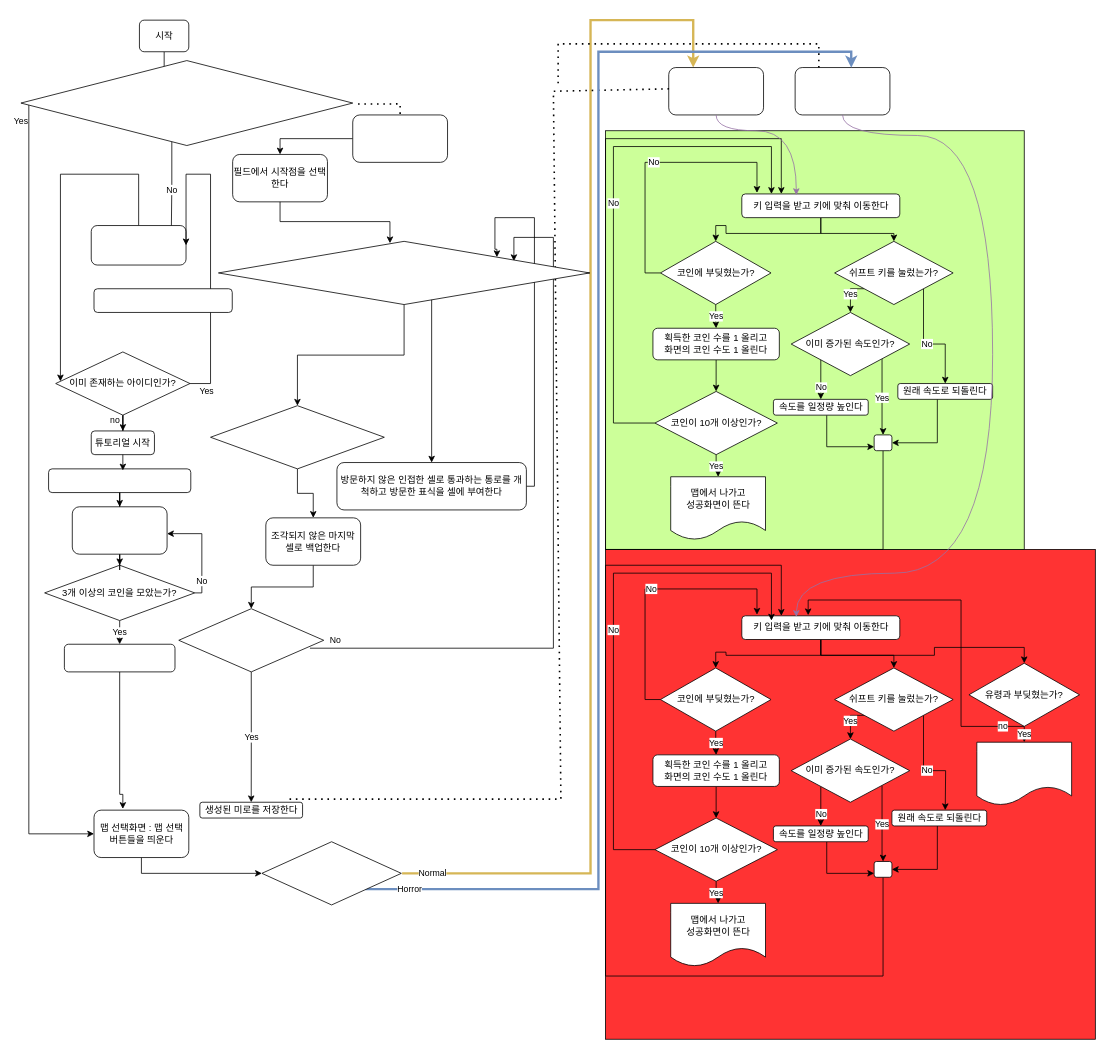
The diagram is 1109 pixels wide and 1053 high, and some of its shapes have lost their labels. Here are the shapes that lost their labels. From the top down, the centre of each, then its label:
the point at 186,103: 계정이 있고 자신의 아이디와 비밀번호를 입력할 수 있는가?
the point at 716,91: 미니맵을 표시한다
the point at 842,91: 자신의 일정한 주위만 보이는 미니맵을 표시한다
the point at 400,138: 4면이 벽으로 형성된 셀을 만든다
the point at 138,245: 새 계정 만들기 자신의 아이디와 비번을 만들기
the point at 404,273: 해당 지점에서 임의로 셀을 선택했는데 아직 방문하지 않았는가?
the point at 162,300: '당신의 아이디는 이미 존재하는 아이디입니다'를 출력하기
the point at 297,437: 인접한 모든 셀을 방문했는가?
the point at 119,480: 튜토리얼 안내 메시지를 작성한 순서대로 표시한다
the point at 119,530: 일반 게임처럼 게임을 진행한다
the point at 119,657: 튜토리얼 클리어 뜨고 맵 선택으로 씬이 전환된다
the point at 251,640: 백업한 셀이 시작한 셀인가?
the point at 1024,773: 맵에서 나가고 실패화면이 뜬다
the point at 331,873: 어떤 모드를 선택했는가?
